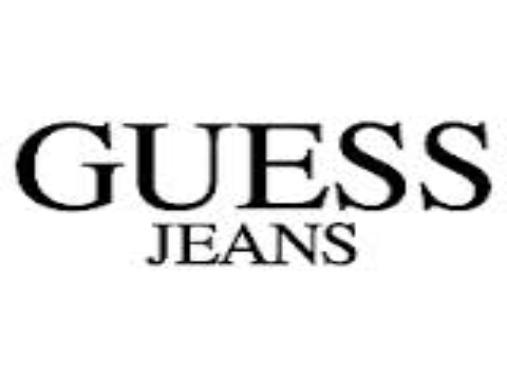GUESS: (12, 111, 503, 212)
